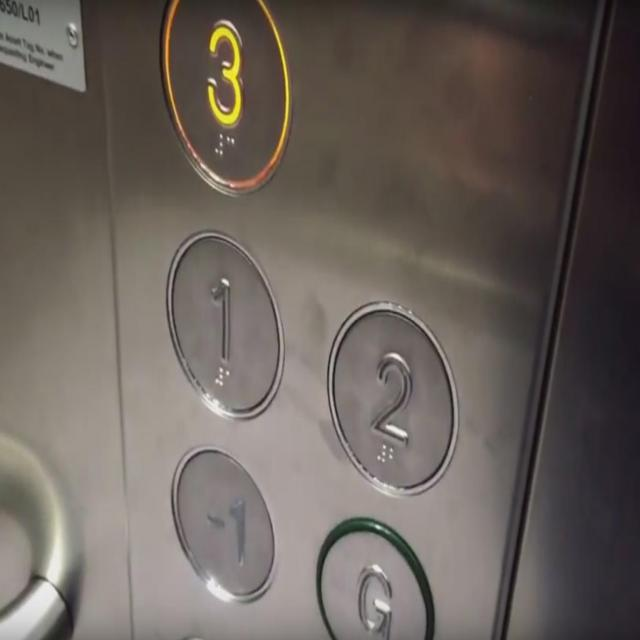-1: (169, 441, 276, 602)
1: (161, 224, 286, 420)
2: (322, 296, 460, 500)
3: (155, 0, 292, 198)
G: (314, 513, 436, 638)
